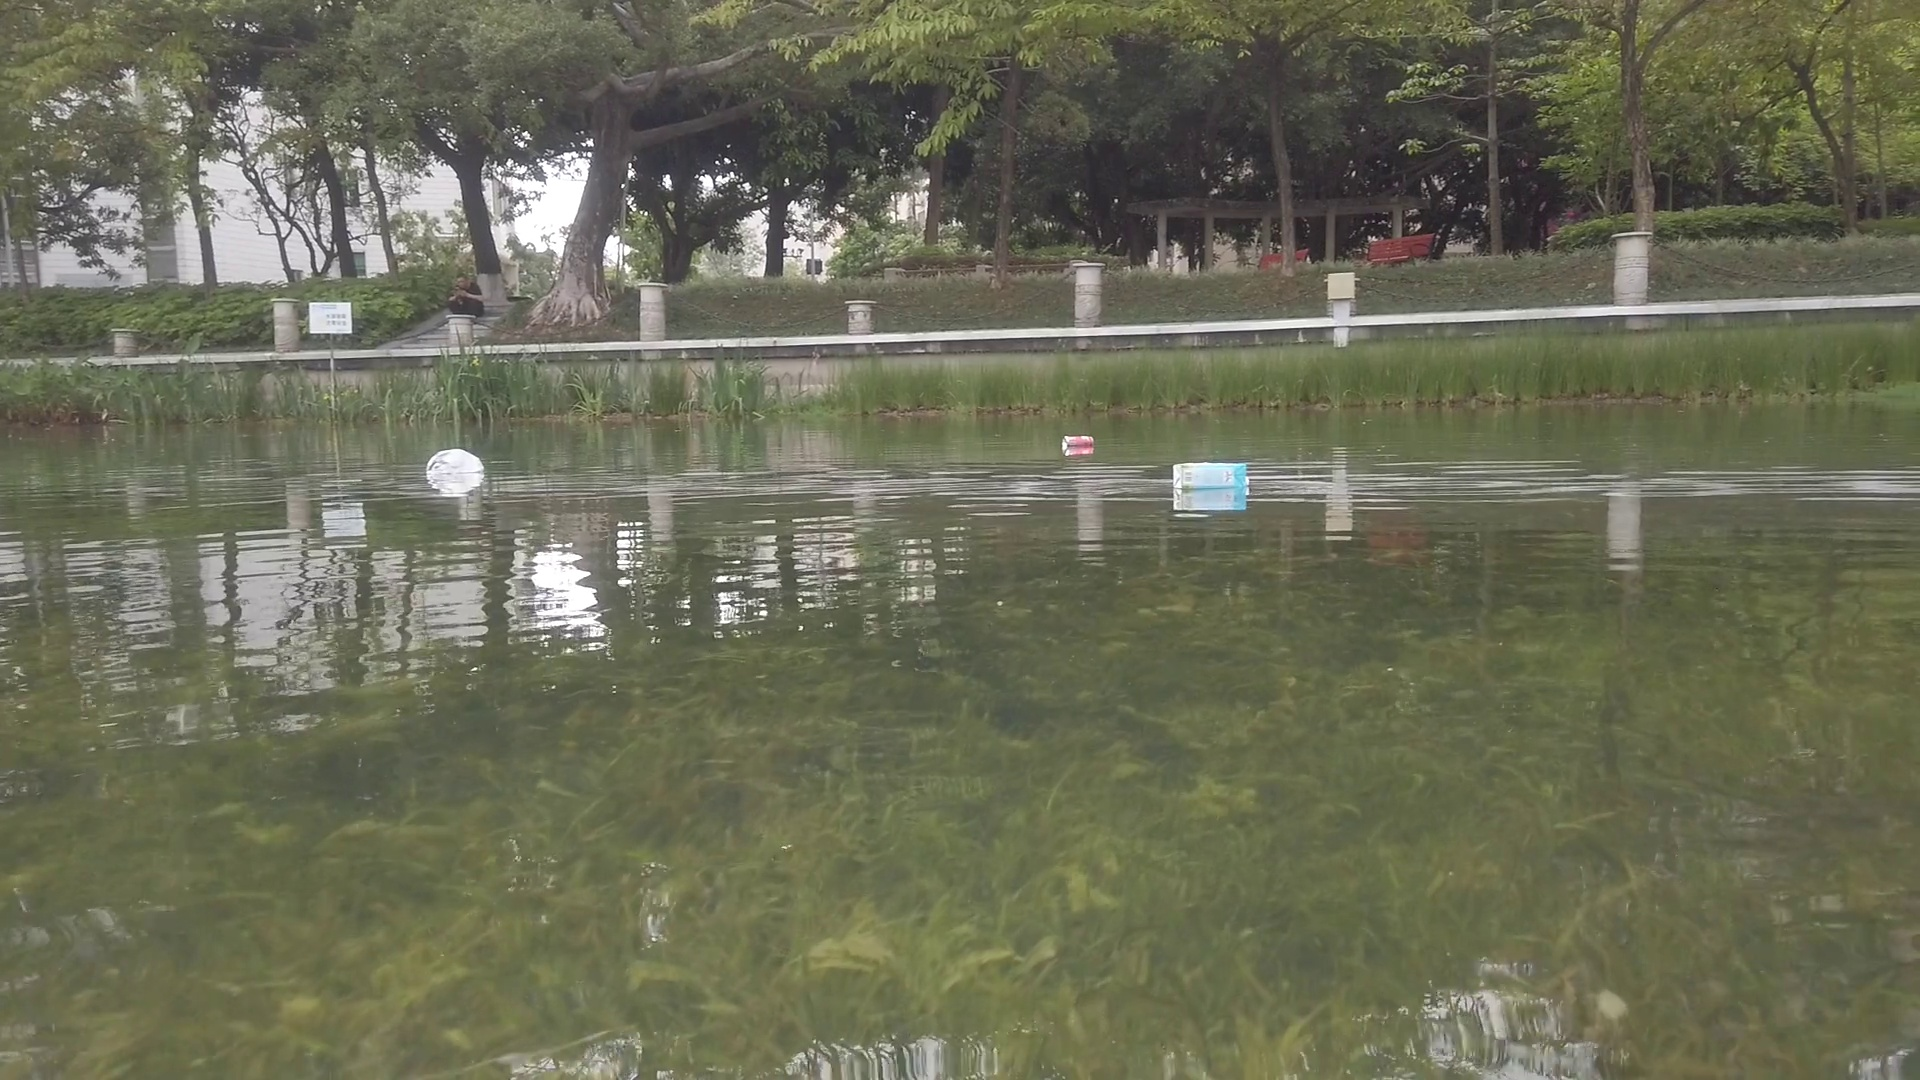bottle: (1060, 434, 1093, 448)
carton: (1174, 462, 1253, 489)
plastic: (423, 447, 485, 473)
